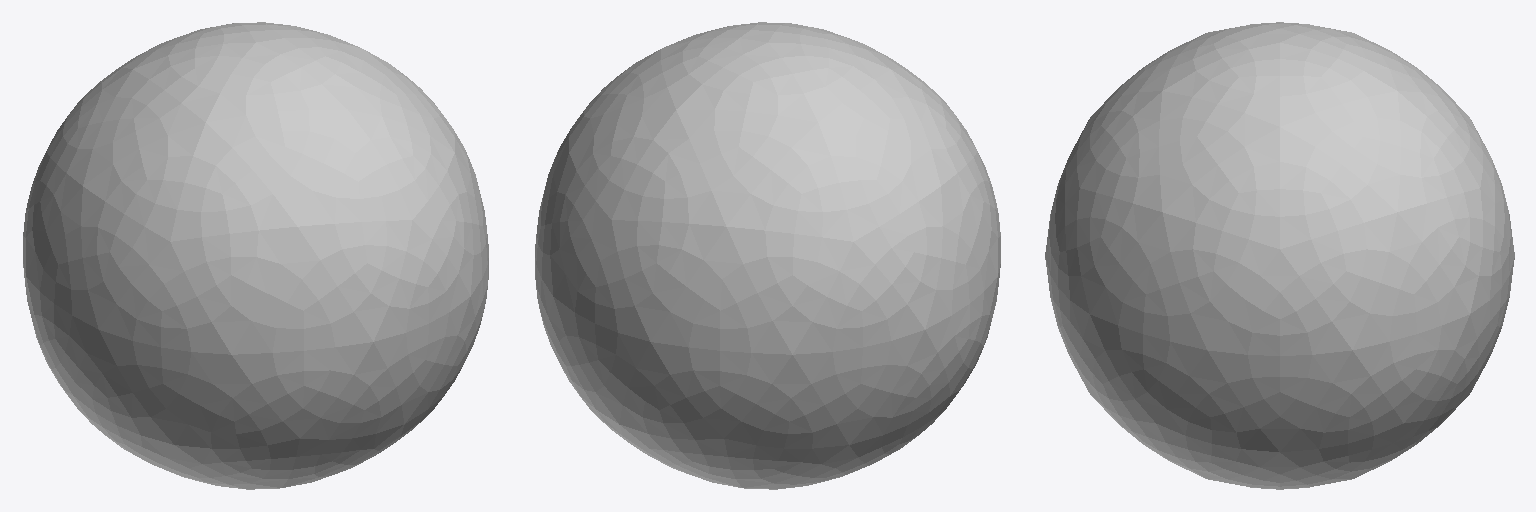
The model's file is futball.obj.
3 renders of one model, left to right at view 1: azimuth 30°, elevation 25°; view 2: azimuth 150°, elevation 25°; view 3: azimuth 270°, elevation 25°, orthographic.
Visible parts, largest first — view 1: Icosphere_Icosphere.002; view 2: Icosphere_Icosphere.002; view 3: Icosphere_Icosphere.002.
Part boxes in pixels (x1,y1,x2,y2): Icosphere_Icosphere.002: (23,22,488,489); Icosphere_Icosphere.002: (535,22,1000,489); Icosphere_Icosphere.002: (1045,22,1514,489).
Bounding box in the file's own units: 1.86 × 1.87 × 1.87.